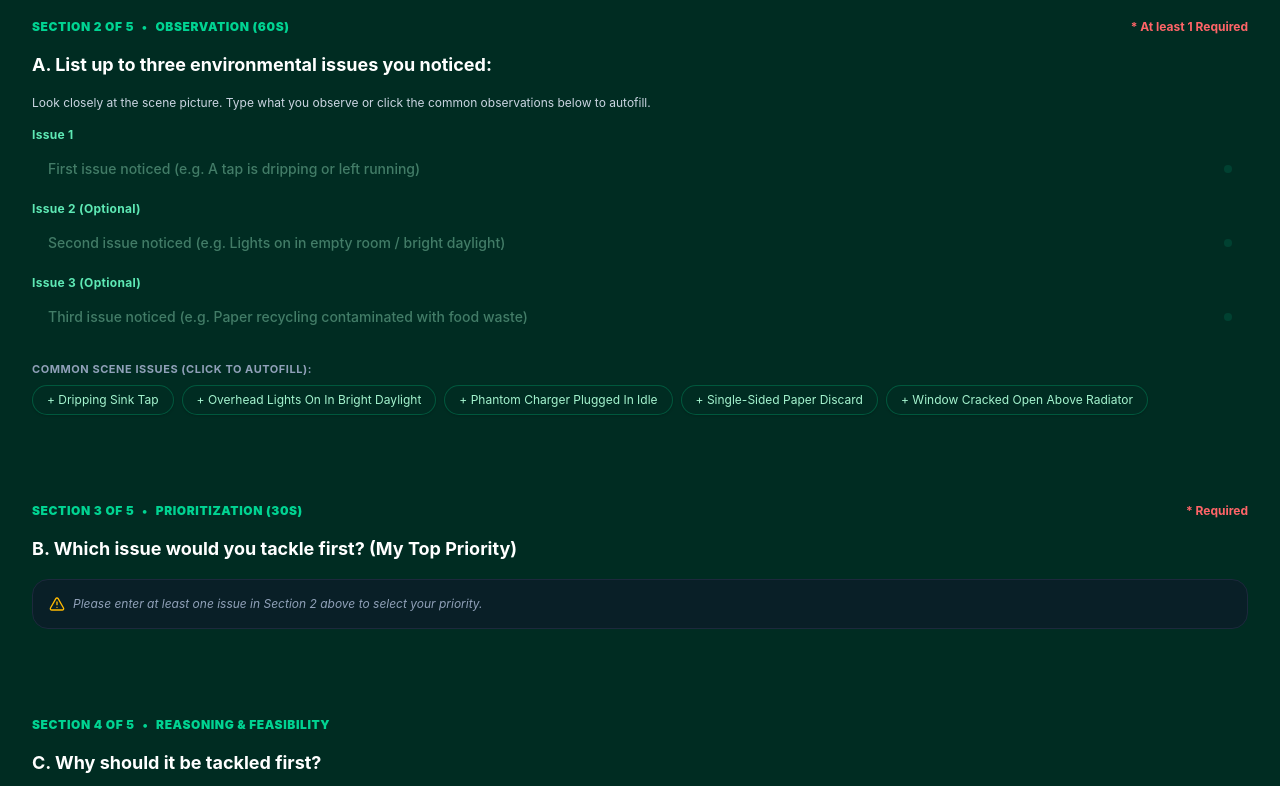
Test: 1. Input Component Testing Suite › Clear Buttons & State Reset › clears issues and cleans up top priority synchronization in GoogleFormsEcoSurvey
(page scrolled)
Initially enter an issue via preset
Click the button "+ Dripping Sink Tap". click: (103, 400)
box: [32,385,174,415]
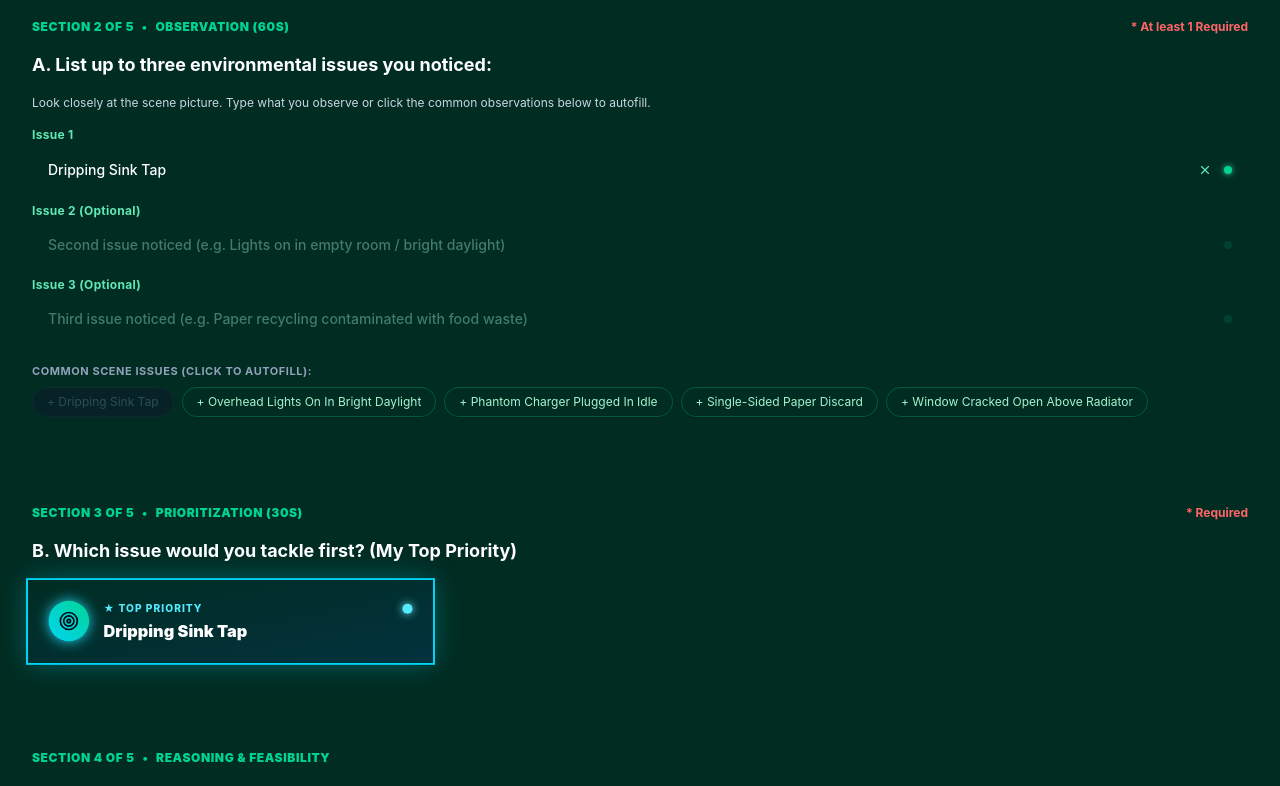
Check: the field showing "Dripping Sink Tap" is shown, box [48,160,1186,180]
Check: the heading "Dripping Sink Tap" is shown, box [104,621,247,641]
Clear the first issue using its accessible clear button
Click the button named "clear issue 1". click: (1205, 170)
box: [1194,158,1216,180]
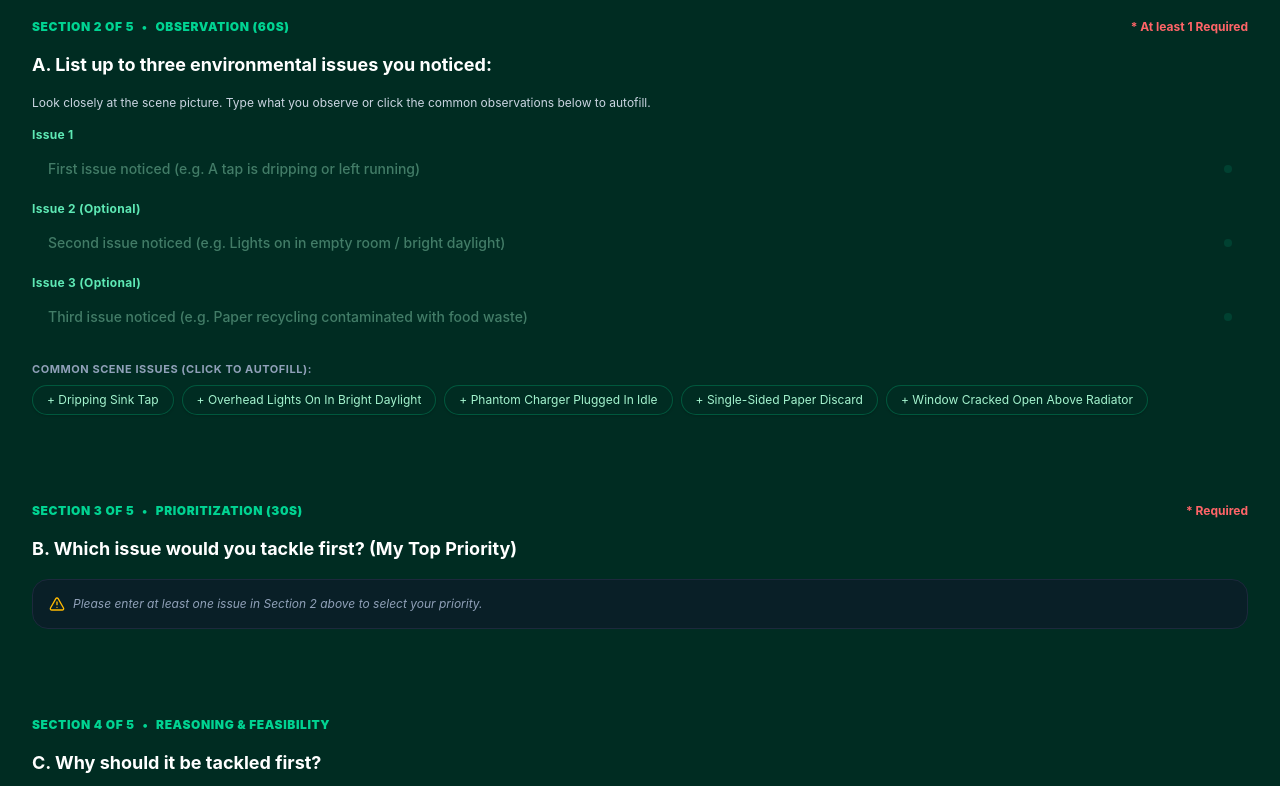
Check: the text "Please enter at least one issue in Section 2" is shown, box [73,596,482,611]
